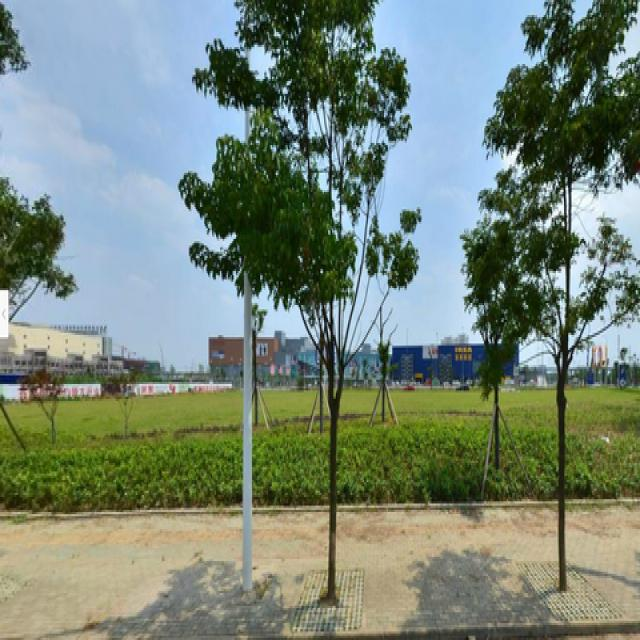koel: (232, 6, 412, 604)
